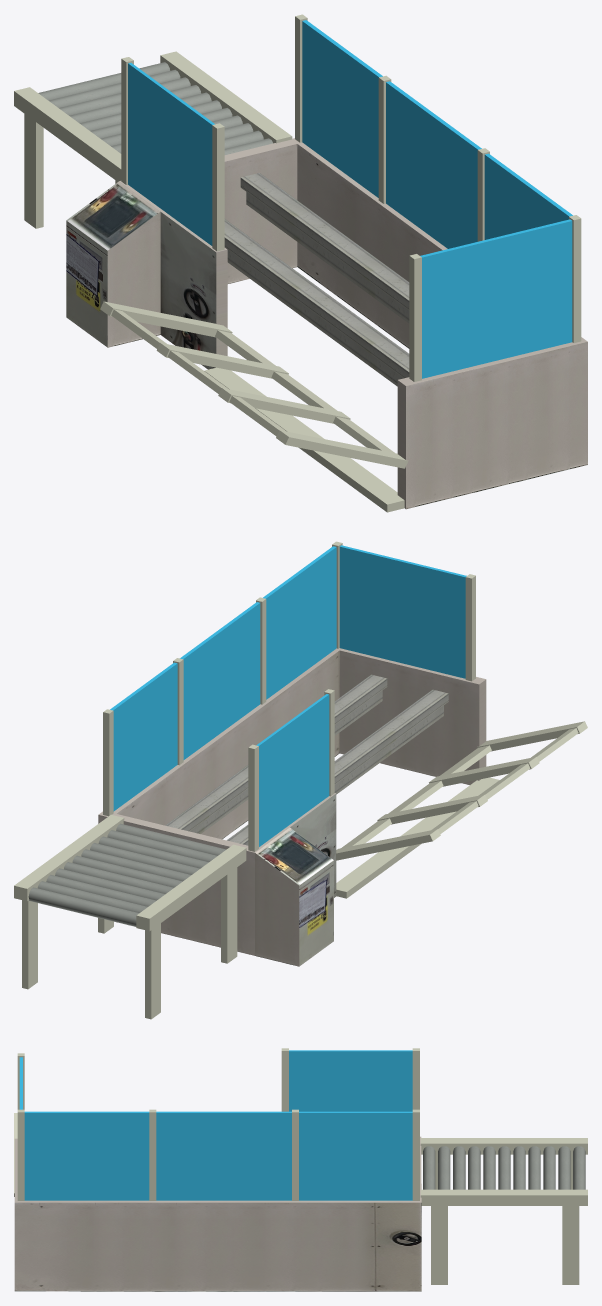
The model's file is 组装线_B1_封箱机.fbx.
3 views of the same model, one above another, from view 1: azimuth 30°, elevation 25°; view 2: azimuth 150°, elevation 25°; view 3: azimuth 270°, elevation 25° (orthographic). The views are drawn at different scales.
Visible parts, largest first — view 1: 对象002; view 2: 对象002; view 3: 对象002.
Boxes of the visible parts, bbox=[...] form: 对象002: bbox=[14, 14, 587, 512]; 对象002: bbox=[14, 541, 587, 1019]; 对象002: bbox=[14, 1048, 587, 1291].
Bounding box in the file's own units: 20.37 × 15.81 × 46.3.
6 materials, 6 textured.
